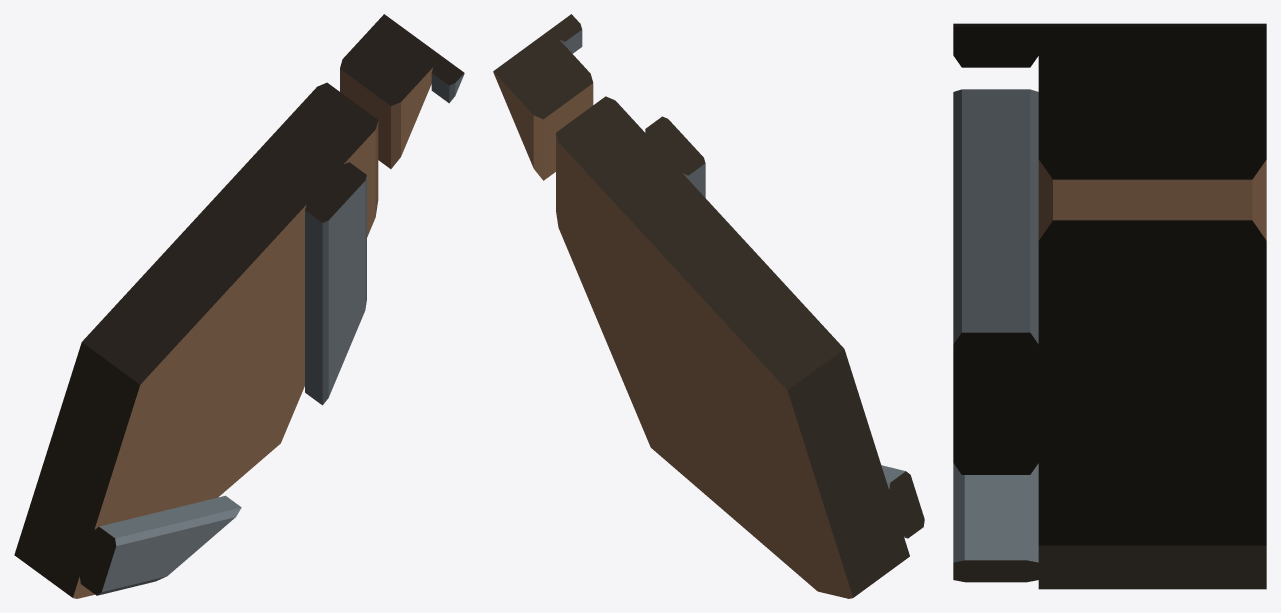
Rendered from SM_DoorShard_01_16.fbx.
3 renders of one model, left to right at view 1: azimuth 30°, elevation 25°; view 2: azimuth 150°, elevation 25°; view 3: azimuth 270°, elevation 25°, orthographic. The views are drawn at different scales.
Parts seen in each view (by area): view 1: SM_DoorShard_01_16; view 2: SM_DoorShard_01_16; view 3: SM_DoorShard_01_16.
Boxes of the visible parts, x1,y1,x2,y2 form: SM_DoorShard_01_16: (14,14,464,598); SM_DoorShard_01_16: (493,14,924,598); SM_DoorShard_01_16: (953,23,1266,589).
Size of the model in its own units: 58.39 by 22 by 68.35.
